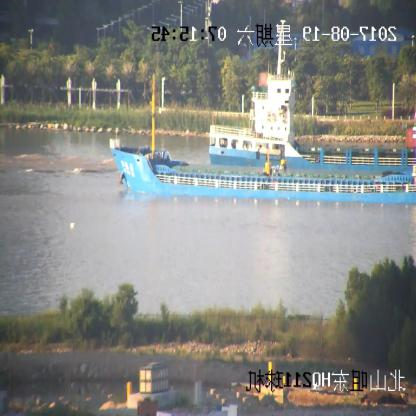Bulk Carrier: (108, 75, 416, 202), (208, 42, 415, 167)
